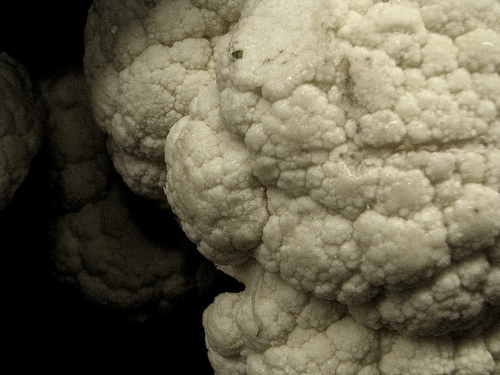cauliflower: (84, 0, 499, 374)
